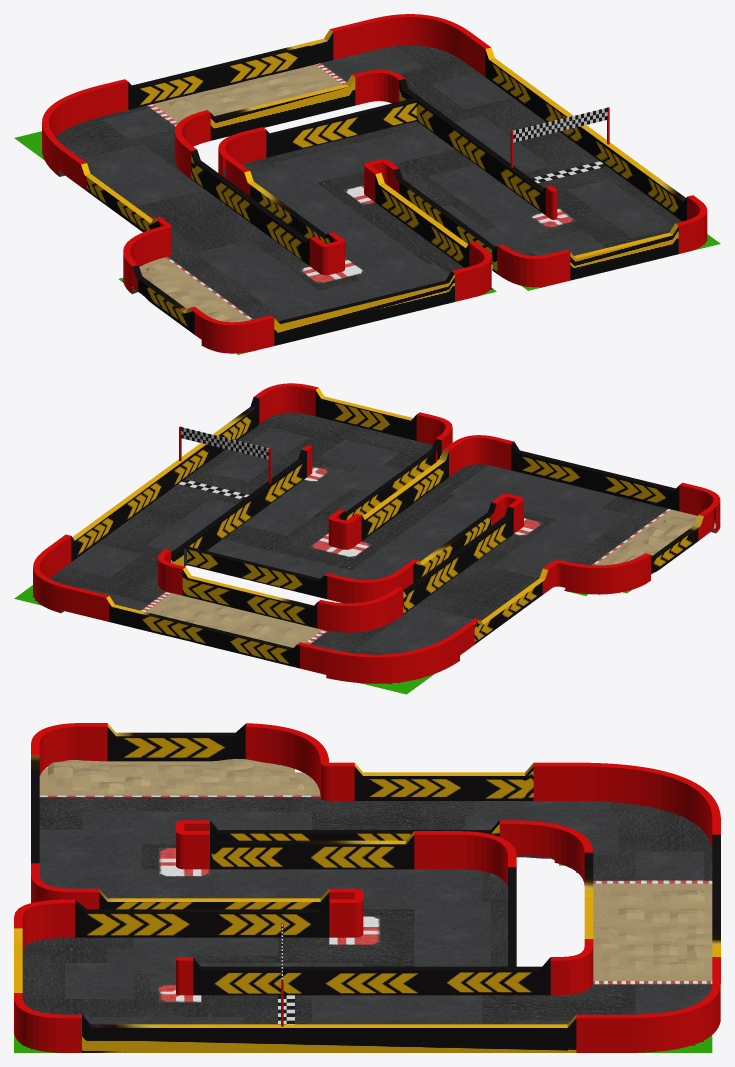
The model's file is pista_rc_1_mejora.glb.
3 renders of one model, top to bottom at view 1: azimuth 30°, elevation 25°; view 2: azimuth 150°, elevation 25°; view 3: azimuth 270°, elevation 25°, orthographic. The views are drawn at different scales.
Visible parts, largest first — view 1: Plane; view 2: Plane; view 3: Plane.
Part boxes in pixels (left/top/right/bottom): Plane: left=14, top=14, right=720, bottom=354; Plane: left=14, top=383, right=720, bottom=694; Plane: left=14, top=723, right=720, bottom=1052.
Bounding box in the file's own units: 64.06 × 7.03 × 64.84.
Materials: 9 (5 with a texture image).
